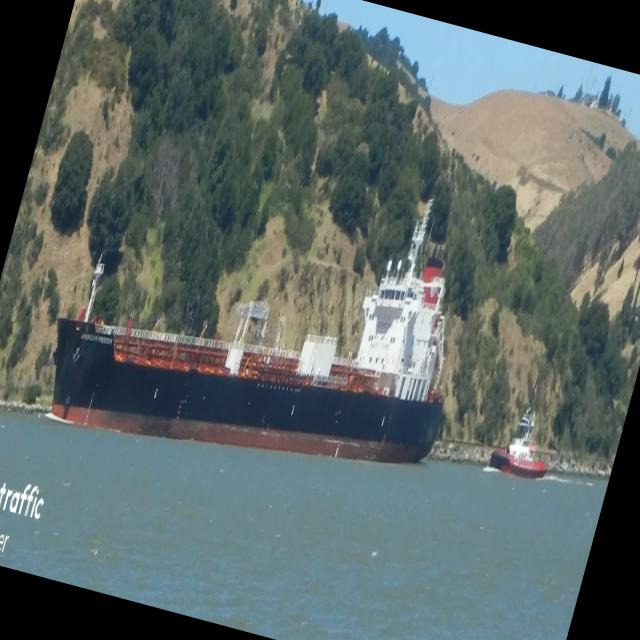Tanker: (50, 198, 444, 462)
Tug: (488, 381, 546, 477)
